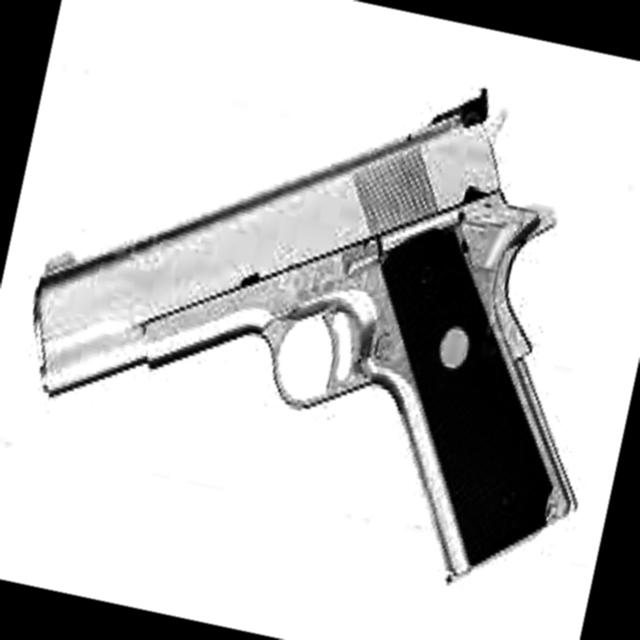semi automatic: (0, 0, 640, 636)
